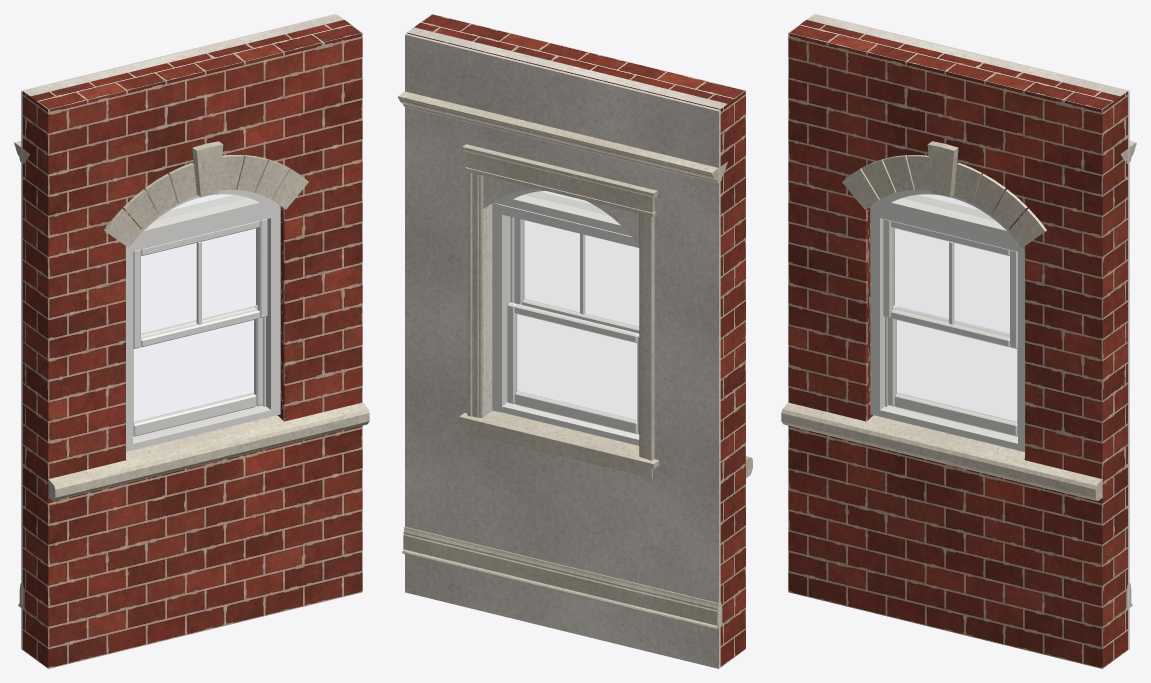
Rendered from s_u2_window.glb.
The picture shows the model from 3 angles, left to right: view 1: azimuth 30°, elevation 25°; view 2: azimuth 150°, elevation 25°; view 3: azimuth 330°, elevation 25°; orthographic projection.
Parts seen in each view (by area): view 1: s_u2_window_brick, s_u2_window_trim, s_u2_window_frame, s_u2_window_glass, folha_glass, s_u2_window_sash, s_u2_window_plaster, folha_sash; view 2: s_u2_window_plaster, molduras, s_u2_window_brick, folha_glass, s_u2_window_glass, s_u2_window_frame, folha_sash, s_u2_window_sash; view 3: s_u2_window_brick, s_u2_window_trim, s_u2_window_frame, s_u2_window_glass, folha_glass, s_u2_window_sash, s_u2_window_plaster, folha_sash.
Part boxes in pixels (box(x1,y1,x2,y2)): s_u2_window_brick: box(23, 20, 362, 668); s_u2_window_trim: box(48, 141, 369, 500); s_u2_window_frame: box(126, 189, 280, 451); s_u2_window_glass: box(141, 195, 258, 337); folha_glass: box(134, 320, 254, 422); s_u2_window_sash: box(133, 219, 267, 348); s_u2_window_plaster: box(21, 14, 344, 649); folha_sash: box(133, 305, 263, 436); s_u2_window_plaster: box(405, 27, 727, 668); molduras: box(398, 91, 727, 629); s_u2_window_brick: box(407, 14, 745, 667); folha_glass: box(516, 314, 636, 420); s_u2_window_glass: box(523, 191, 638, 326); s_u2_window_frame: box(492, 189, 639, 445); folha_sash: box(507, 302, 639, 434); s_u2_window_sash: box(514, 217, 639, 333); s_u2_window_brick: box(788, 20, 1127, 668); s_u2_window_trim: box(781, 141, 1102, 500); s_u2_window_frame: box(870, 189, 1024, 451); s_u2_window_glass: box(892, 195, 1009, 337); folha_glass: box(896, 320, 1016, 422); s_u2_window_sash: box(883, 219, 1017, 348); s_u2_window_plaster: box(806, 14, 1129, 649); folha_sash: box(887, 305, 1017, 436).
Bounding box in the file's own units: 2 × 3.4 × 0.45.
7 materials, 4 textured.
